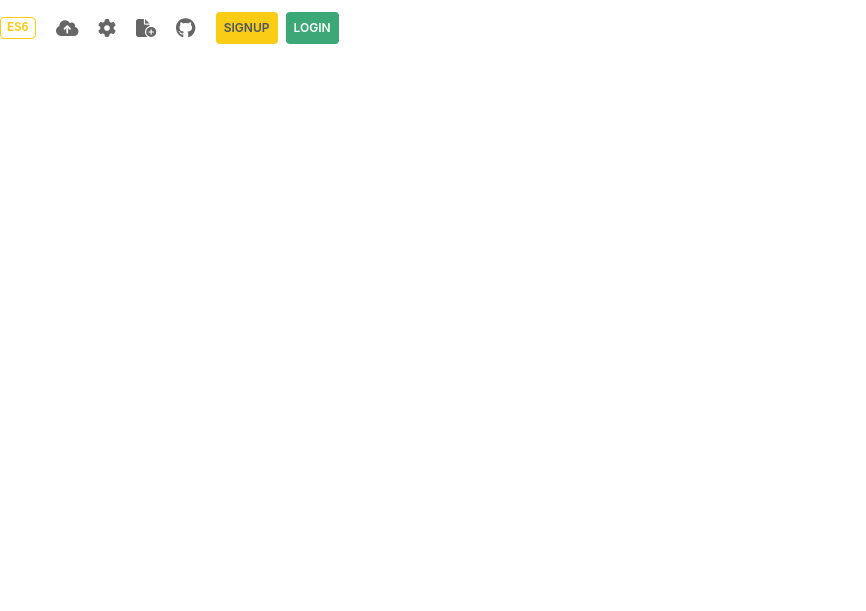
Test: CodeFeature Component › save code › not logged in save code
The image size is (866, 611).
Click the picture named "fa-cloud-arrow-up".
click(67, 28)  # box [56,19,78,37]
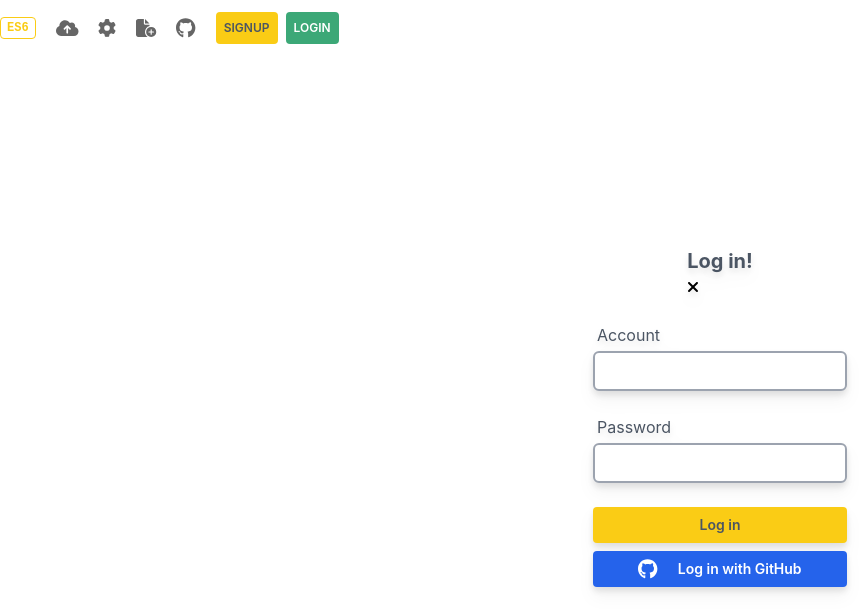
Expected: the heading "Log in!" is shown, [687,247,753,275]
